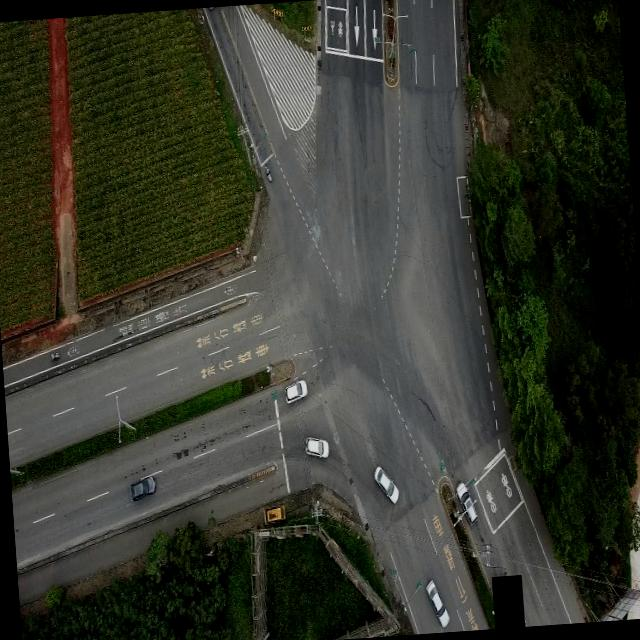bike: (264, 166, 271, 182)
car: (424, 578, 450, 627), (373, 464, 400, 507), (453, 480, 478, 525), (128, 475, 156, 501), (283, 377, 308, 404), (304, 434, 329, 460), (262, 504, 286, 526)
